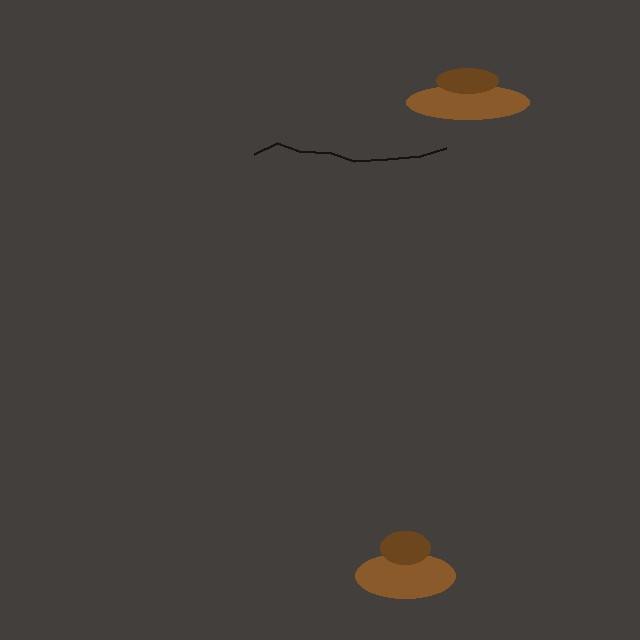animal: (355, 531, 455, 598), (406, 68, 529, 119)
crack: (254, 93, 427, 215)
